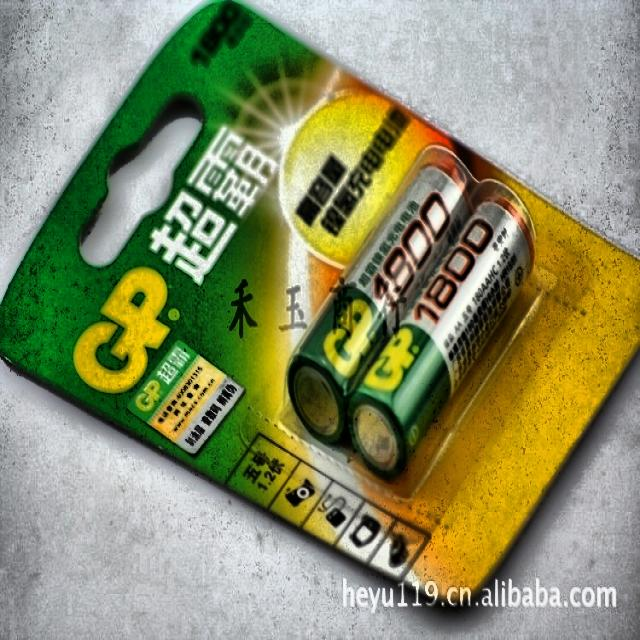Non-Valuable Waste - Batteries: (288, 148, 534, 477)
